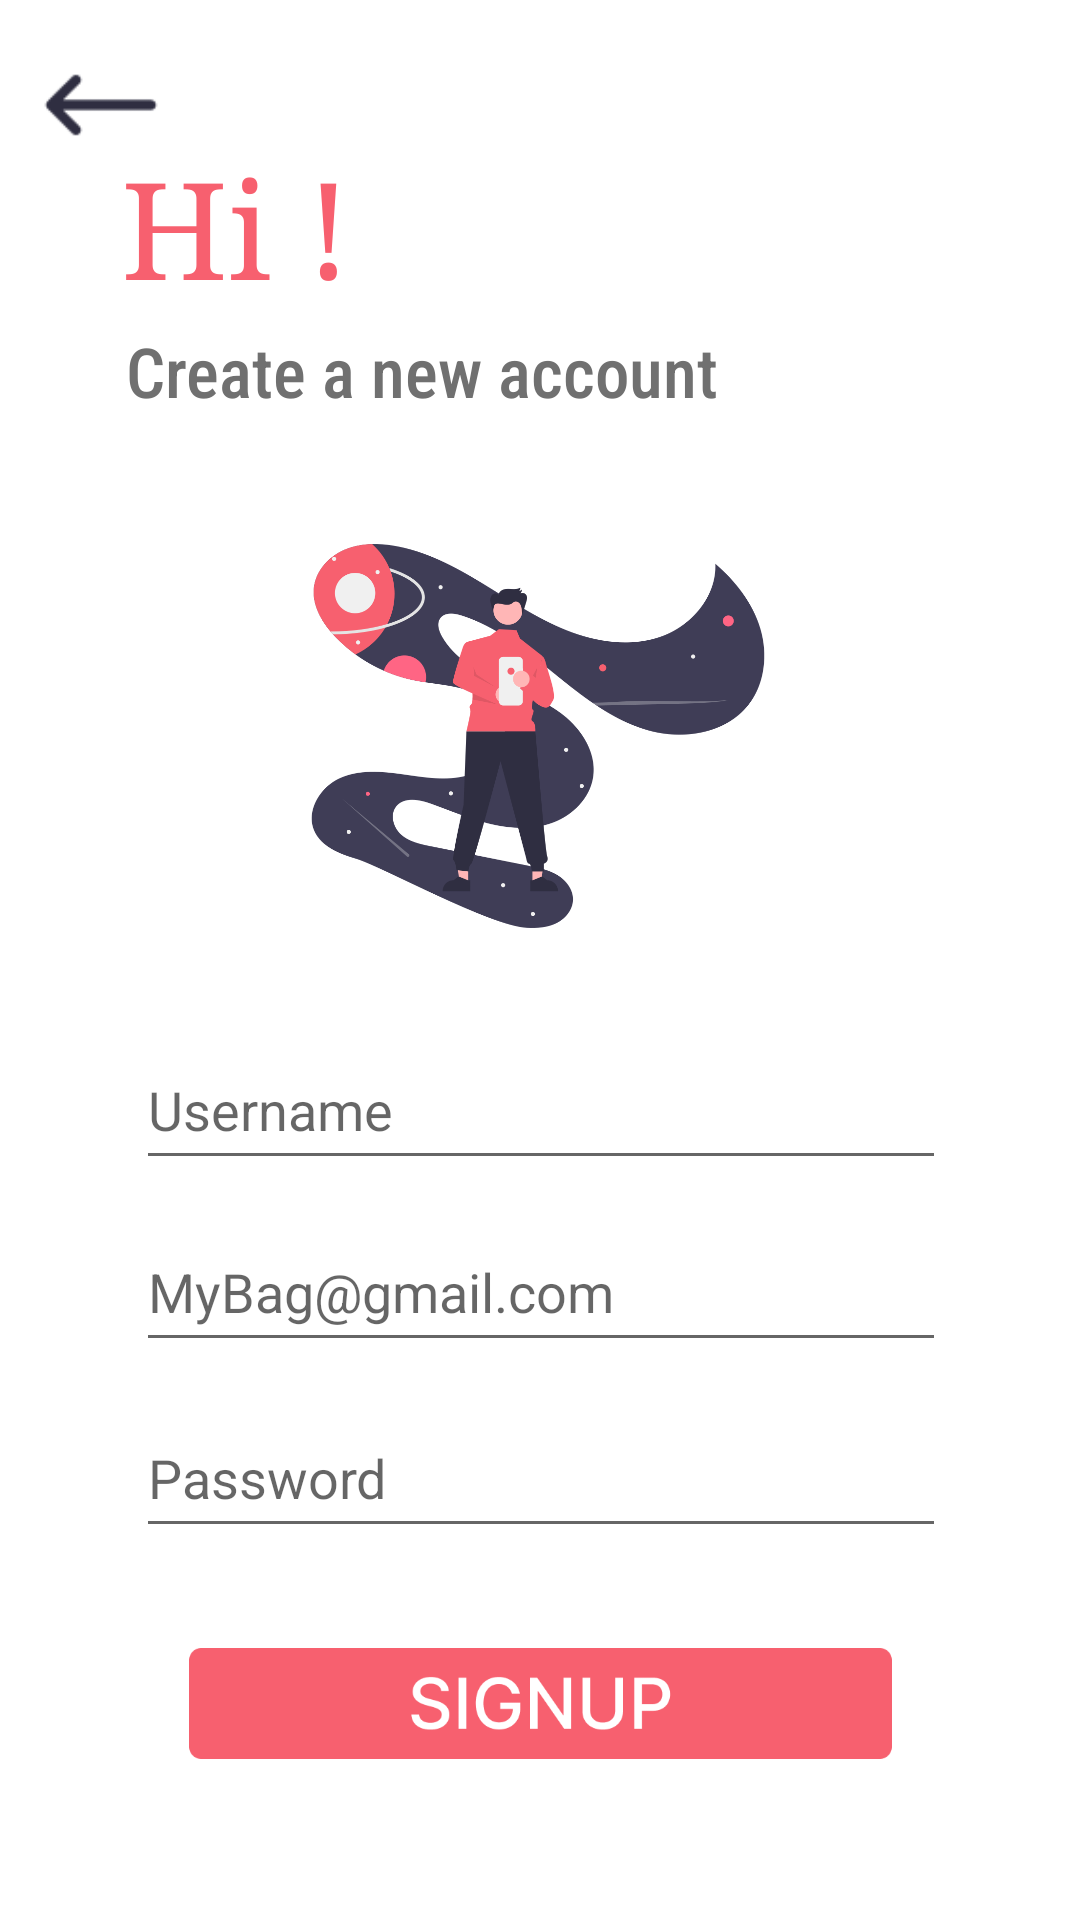

Point at icon controls on the screen. Image size 1080*1920, points as (x,y).
left arrow: (101,105)
